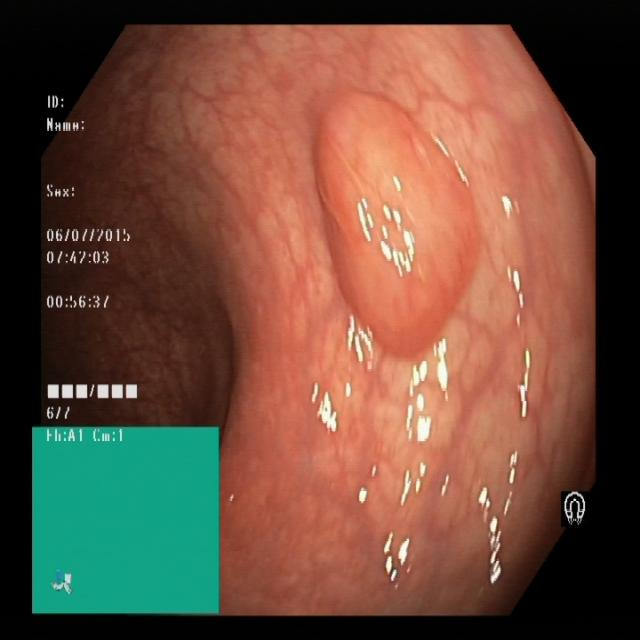Polyps: (310, 84, 489, 360)
